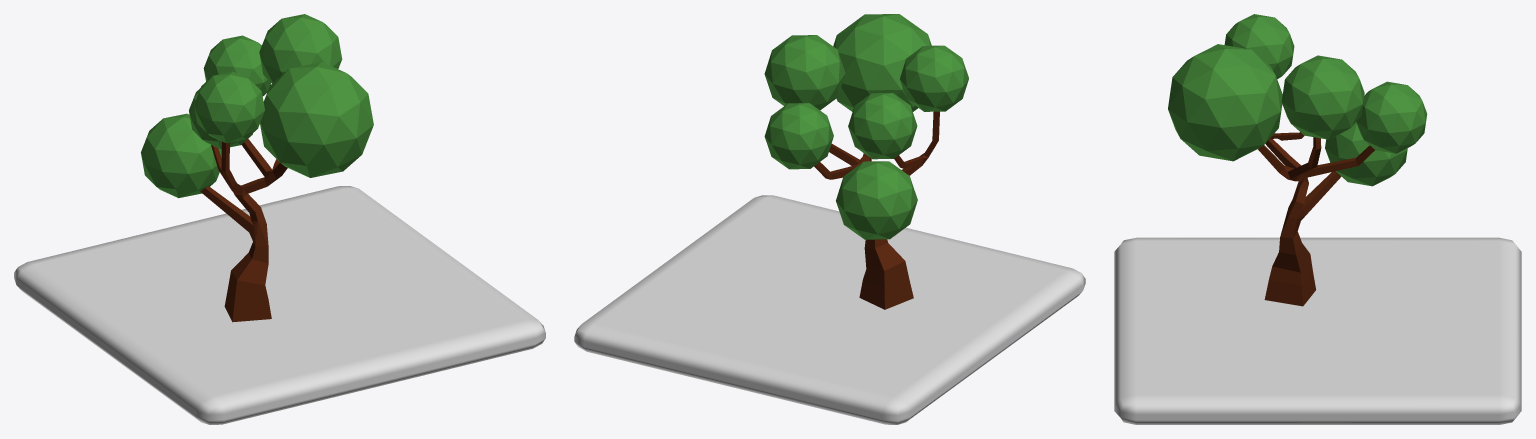
The model's file is singleTree.glb.
3 views of the same model, side by side, from view 1: azimuth 30°, elevation 25°; view 2: azimuth 150°, elevation 25°; view 3: azimuth 270°, elevation 25° (orthographic). The views are drawn at different scales.
Visible parts, largest first — view 1: Box, tree crown, trunk and branches; view 2: Box, tree crown, trunk and branches; view 3: Box, tree crown, trunk and branches.
Part boxes in pixels (<box>): Box: <box>14,186,545,424</box>; tree crown: <box>141,14,373,198</box>; trunk and branches: <box>200,138,287,322</box>; Box: <box>574,195,1085,424</box>; tree crown: <box>764,14,968,239</box>; trunk and branches: <box>814,111,939,309</box>; Box: <box>1114,237,1521,424</box>; tree crown: <box>1168,14,1427,186</box>; trunk and branches: <box>1258,132,1374,306</box>.
Size of the model in its own units: 0.5 by 0.4031 by 0.5.
